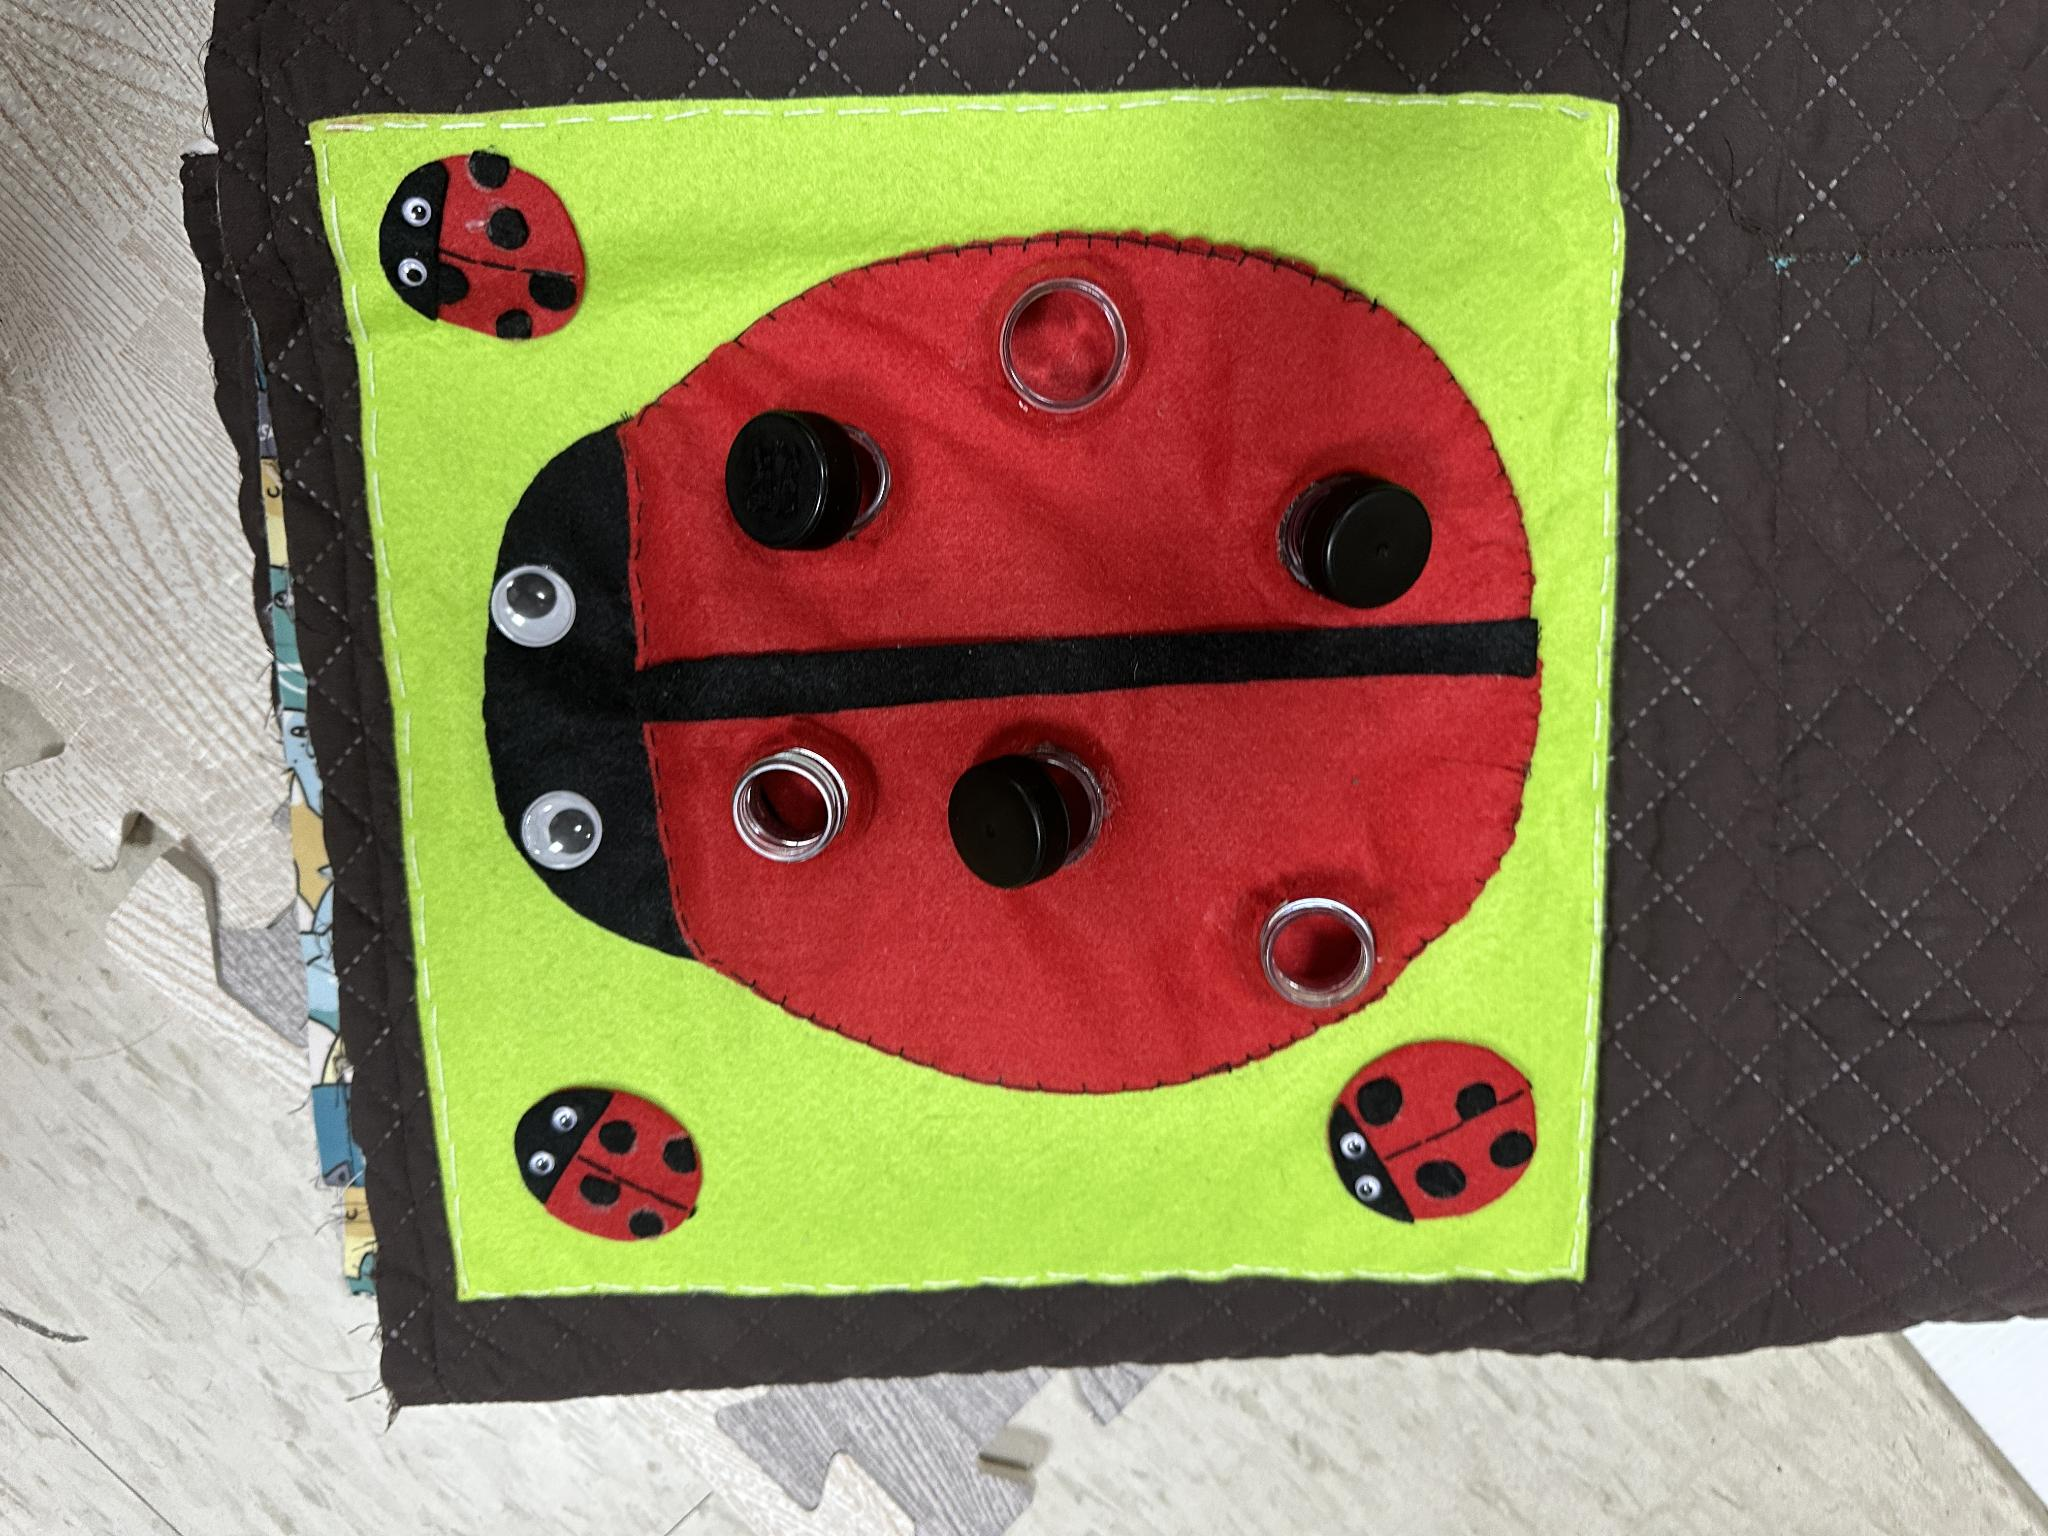cap_ng: (922, 707, 1148, 921), (1232, 444, 1448, 639), (706, 395, 919, 579)
